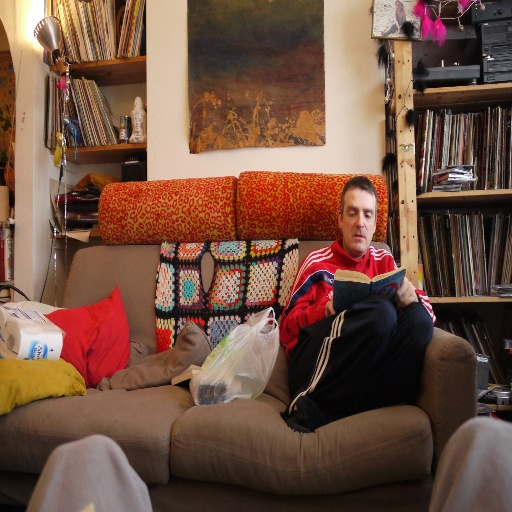hand: (393, 276, 417, 312), (324, 298, 337, 319)
